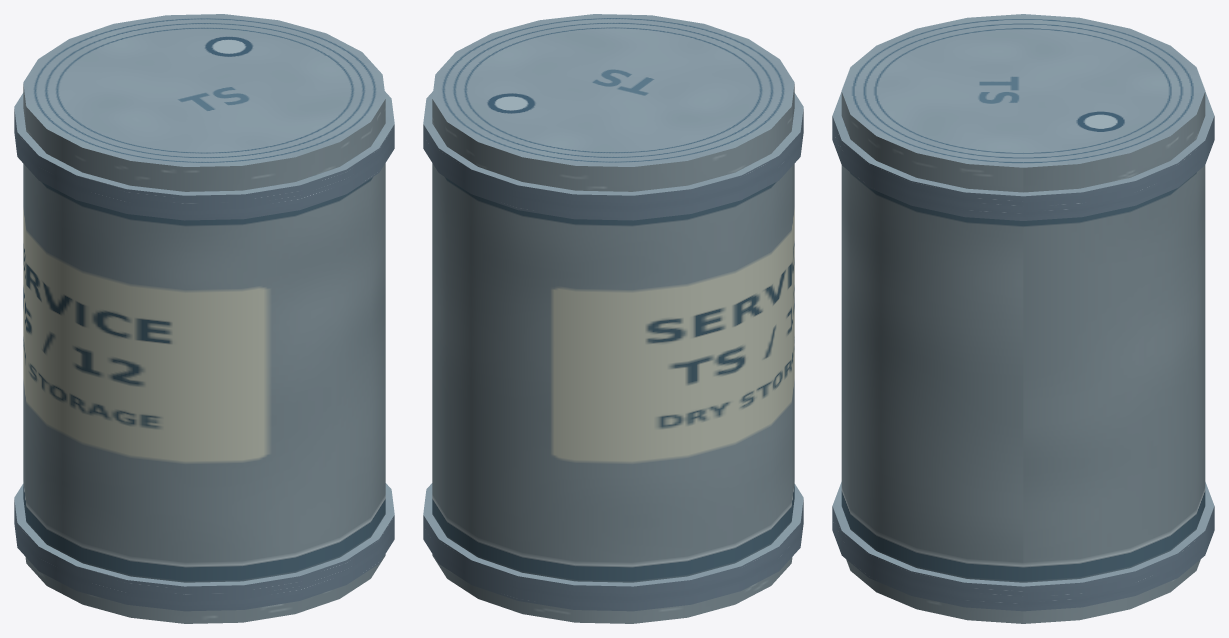
The model's file is SM_ServiceDrum.glb.
The picture shows the model from 3 angles, left to right: view 1: azimuth 30°, elevation 25°; view 2: azimuth 150°, elevation 25°; view 3: azimuth 270°, elevation 25°; orthographic projection.
Parts seen in each view (by area): view 1: SM_ServiceDrum; view 2: SM_ServiceDrum; view 3: SM_ServiceDrum.
Part boxes in pixels (bbox=[...]): SM_ServiceDrum: bbox=[14, 14, 394, 623]; SM_ServiceDrum: bbox=[423, 14, 803, 623]; SM_ServiceDrum: bbox=[832, 14, 1214, 623].
Bounding box in the file's own units: 0.63 × 0.83 × 0.63.
Materials: 1 (1 with a texture image).
